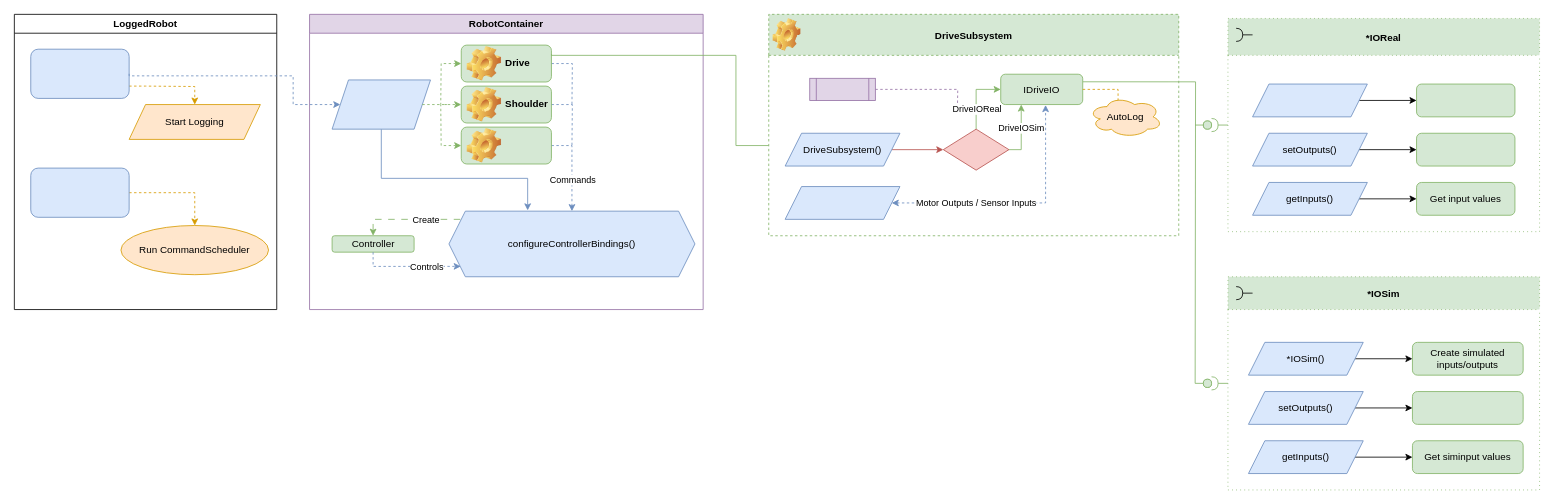
This 1554x504 diagram has some shape labels left out. The box of each missing label's shape, as (x1, y1, x2, y2) in pixels:
*IOReal(): (1252, 83, 1367, 117)
Create real inputs/outputs: (1416, 83, 1515, 117)
init(): (331, 79, 430, 129)
isReal: (943, 128, 1009, 170)
Map: (809, 77, 875, 100)
periodic(): (784, 186, 900, 219)
Revolver: (460, 126, 551, 164)
robotInit(): (30, 48, 129, 98)
robotPeriodic(): (30, 167, 129, 217)
Set output values: (1416, 132, 1515, 166)
Set simoutput values: (1412, 391, 1523, 424)
